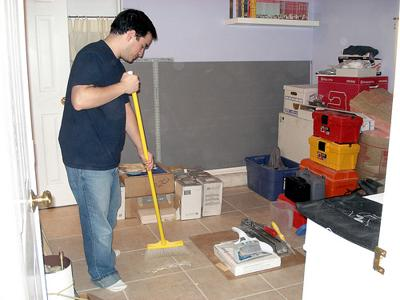person: (57, 8, 160, 294)
